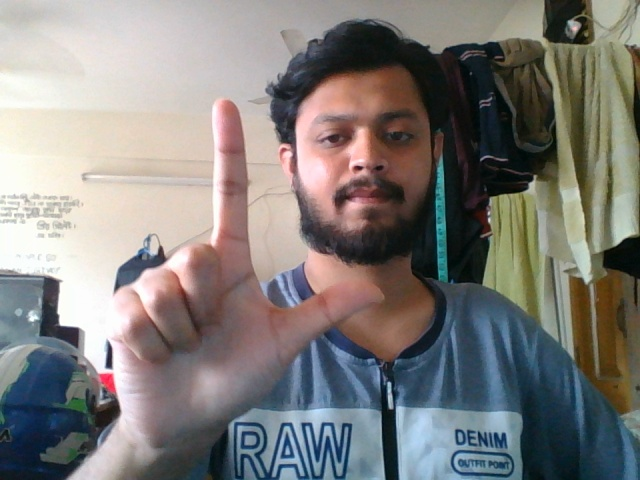la: (109, 92, 383, 467)
